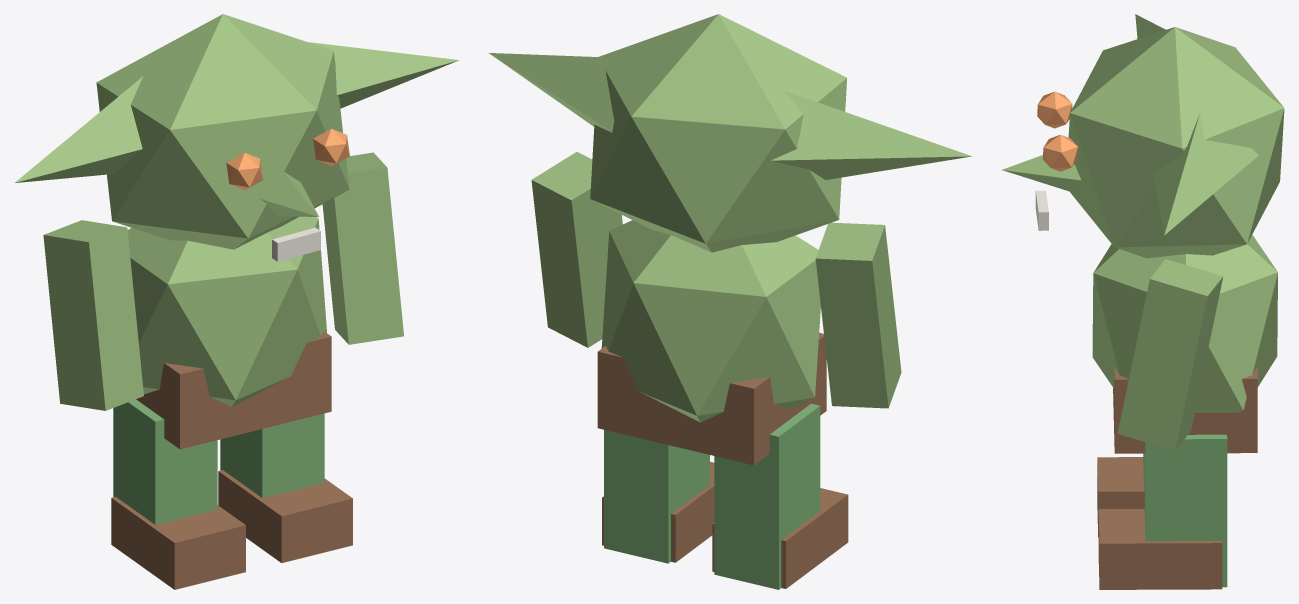
Rendered from npcpose_goblin_idle_00.glb.
The picture shows the model from 3 angles, left to right: view 1: azimuth 30°, elevation 25°; view 2: azimuth 150°, elevation 25°; view 3: azimuth 270°, elevation 25°; orthographic projection. The views are drawn at different scales.
Parts seen in each view (by area): view 1: npcpose; view 2: npcpose; view 3: npcpose.
Part boxes in pixels (x1=…): npcpose: x1=15, y1=14, x2=459, y2=589; npcpose: x1=489, y1=14, x2=971, y2=589; npcpose: x1=1002, y1=14, x2=1284, y2=589.
Size of the model in its own units: 1.03 by 1.12 by 0.5536.
